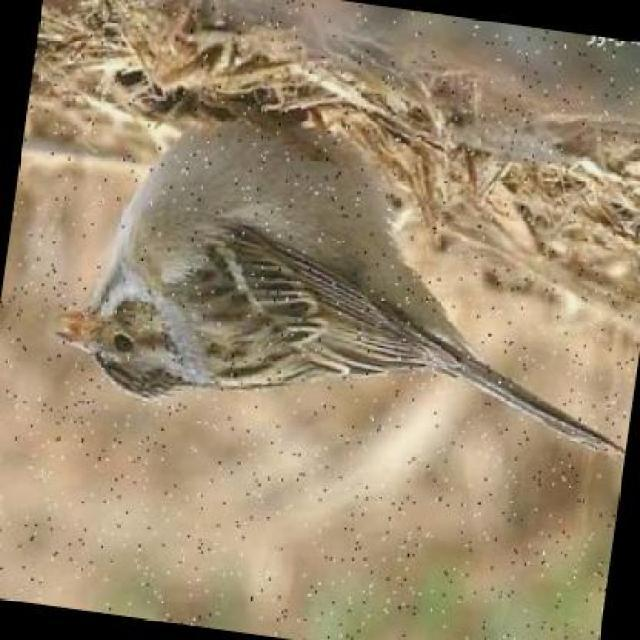Bird: (50, 109, 625, 459)
